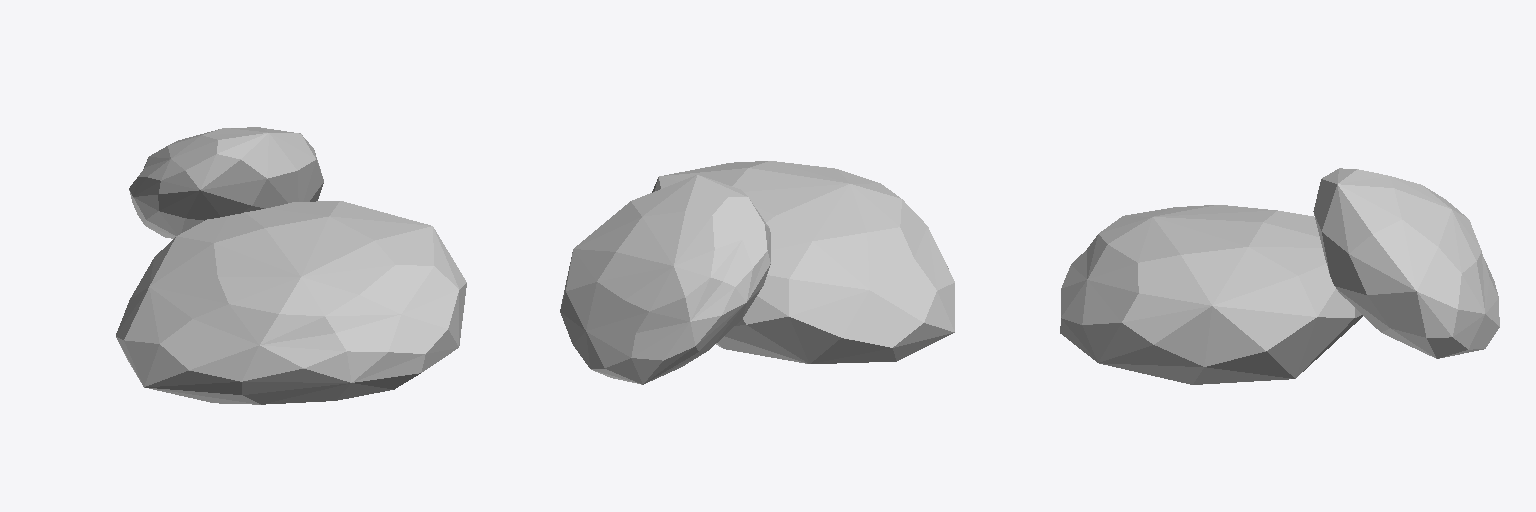
File: roca.obj
3 views of the same model, side by side, from view 1: azimuth 30°, elevation 25°; view 2: azimuth 150°, elevation 25°; view 3: azimuth 270°, elevation 25° (orthographic).
Visible parts, largest first — view 1: Icosphere.003, Icosphere.004; view 2: Icosphere.003, Icosphere.004; view 3: Icosphere.003, Icosphere.004.
Part boxes in pixels (x1,y1,x2,y2): Icosphere.003: (116, 201, 466, 404); Icosphere.004: (129, 127, 323, 238); Icosphere.003: (652, 161, 954, 363); Icosphere.004: (560, 175, 770, 384); Icosphere.003: (1060, 205, 1362, 384); Icosphere.004: (1313, 168, 1499, 358).
Size of the model in its own units: 0.5179 by 0.3051 by 0.6595.